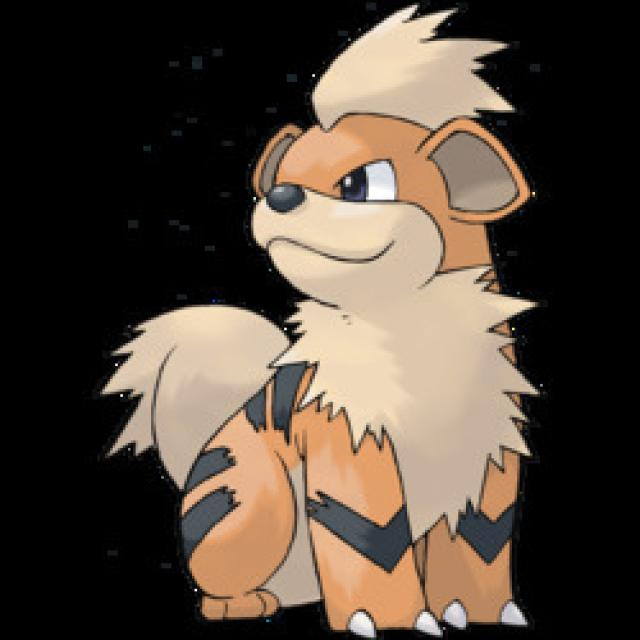Growlithe: (171, 61, 544, 634)
